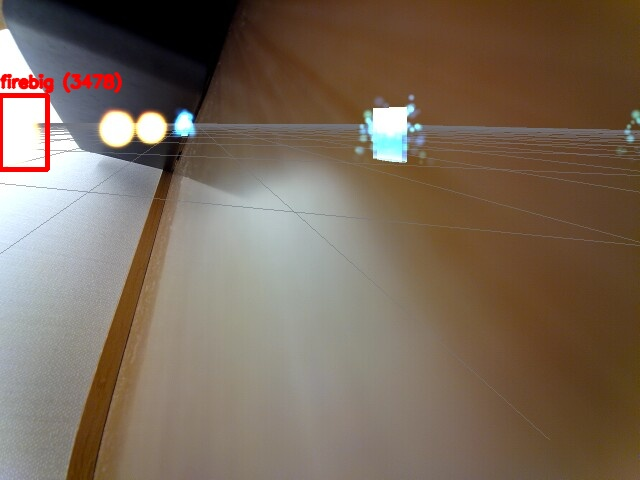firebig: (0, 95, 47, 169)
